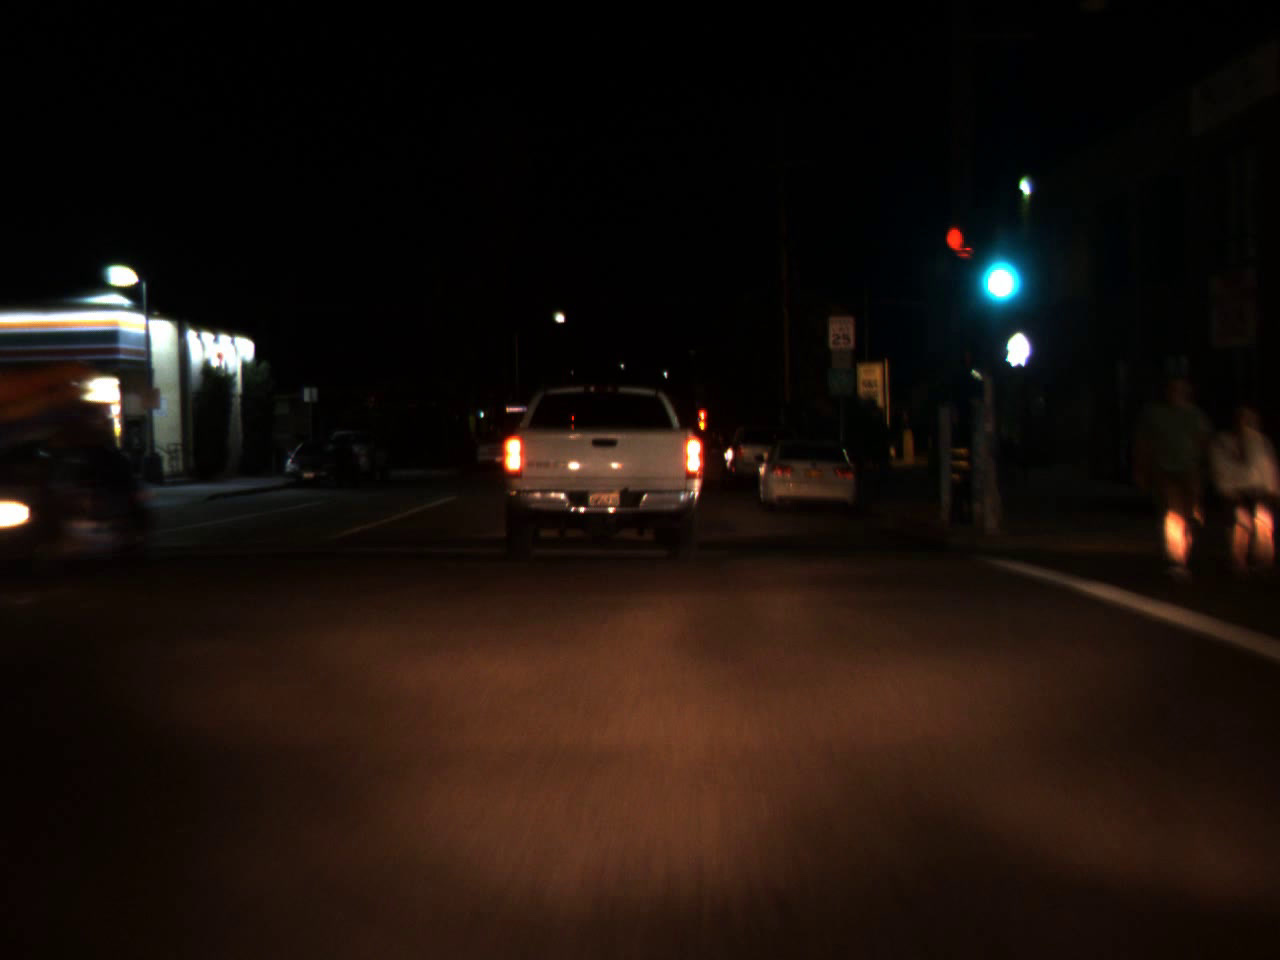go: (976, 234, 1019, 306)
stop: (697, 406, 706, 430)
